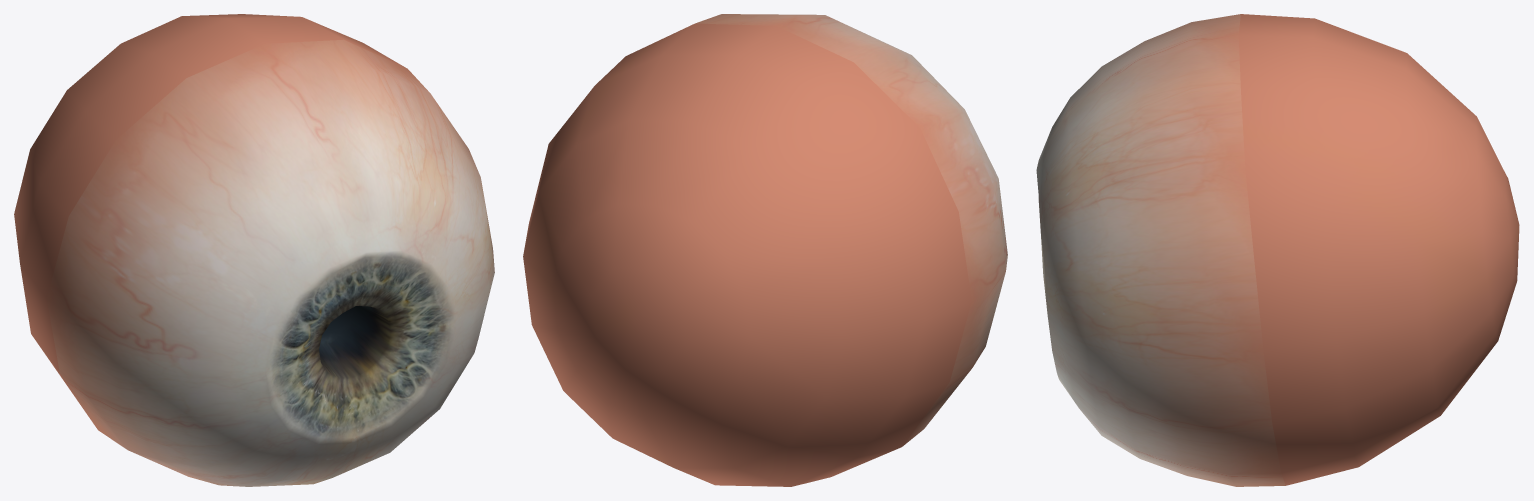
The model's file is Eye.fbx.
The picture shows the model from 3 angles, left to right: view 1: azimuth 30°, elevation 25°; view 2: azimuth 150°, elevation 25°; view 3: azimuth 270°, elevation 25°; orthographic projection.
Parts seen in each view (by area): view 1: V1_1:jianmian_02:Female_Body_R_Eye; view 2: V1_1:jianmian_02:Female_Body_R_Eye; view 3: V1_1:jianmian_02:Female_Body_R_Eye.
Part boxes in pixels (x1,y1,x2,y2): V1_1:jianmian_02:Female_Body_R_Eye: (14, 14, 494, 486); V1_1:jianmian_02:Female_Body_R_Eye: (523, 14, 1007, 486); V1_1:jianmian_02:Female_Body_R_Eye: (1036, 14, 1519, 486).
Bounding box in the file's own units: 2.16 × 2.15 × 2.19.
